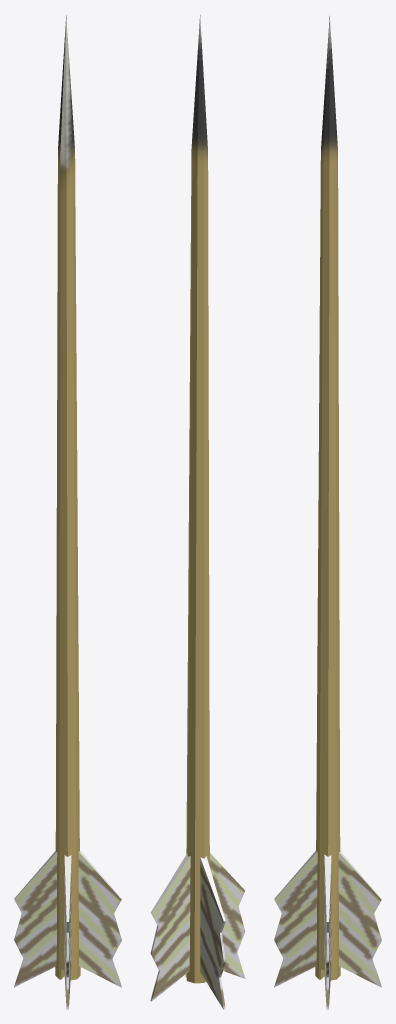
Rendered from Simple Arrow.fbx.
3 renders of one model, left to right at view 1: azimuth 90°, elevation 25°; view 2: azimuth 210°, elevation 25°; view 3: azimuth 270°, elevation 25°, orthographic.
Visible parts, largest first — view 1: Arrow; view 2: Arrow; view 3: Arrow.
Part boxes in pixels (left/top/right/bottom): Arrow: left=14, top=15, right=121, bottom=1009; Arrow: left=150, top=15, right=245, bottom=1009; Arrow: left=274, top=16, right=381, bottom=1009.
Bounding box in the file's own units: 0.0819 × 0.8155 × 0.0819.
